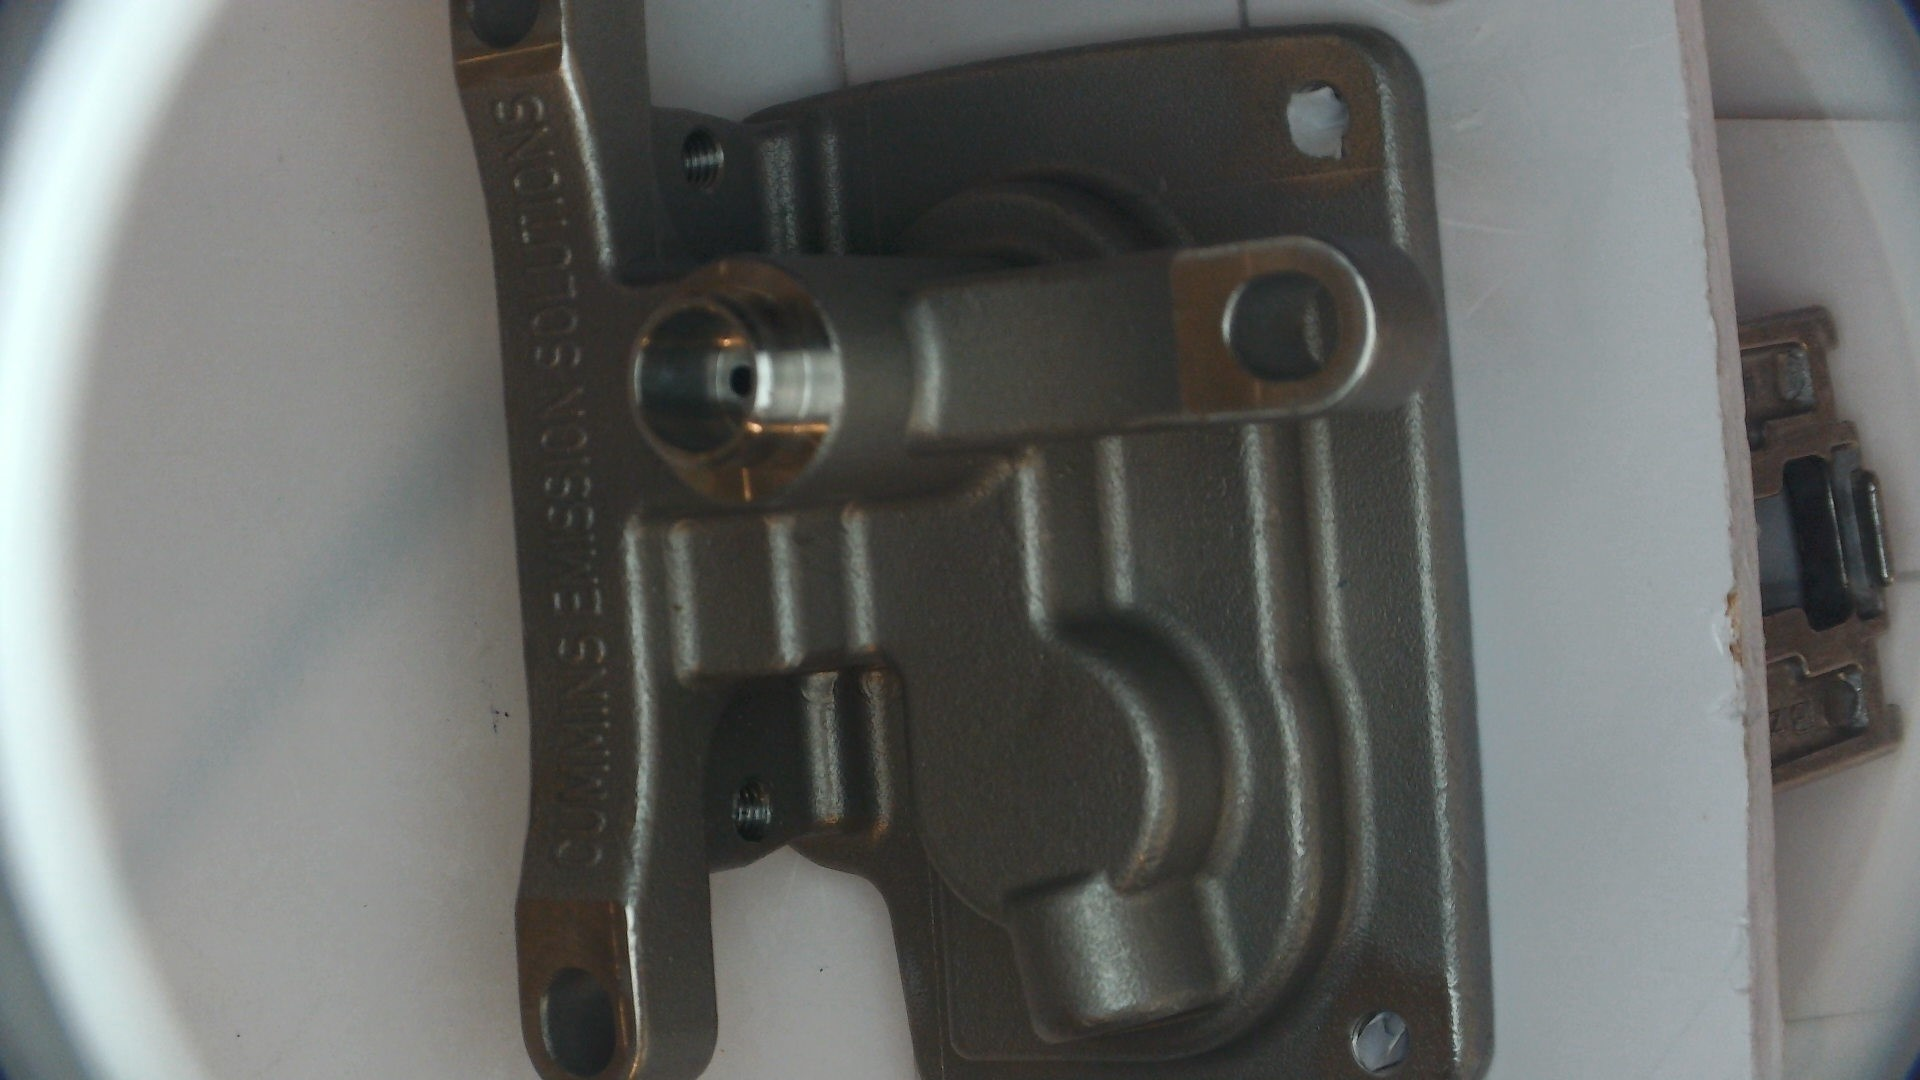thread_absence: (1276, 75, 1354, 161), (1346, 1006, 1411, 1077)
thread_presence: (729, 771, 777, 844), (678, 121, 727, 191)
